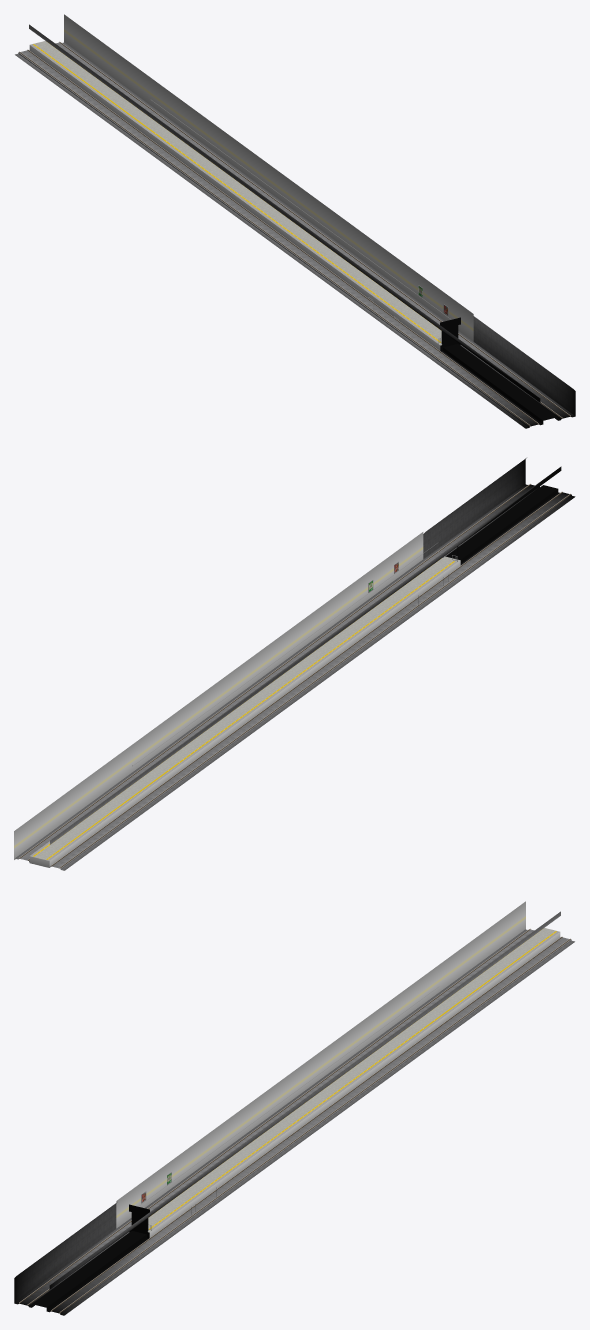
File: KH_SHIJO.glb
3 renders of one model, top to bottom at view 1: azimuth 30°, elevation 25°; view 2: azimuth 150°, elevation 25°; view 3: azimuth 330°, elevation 25°, orthographic.
Visible parts, largest first — view 1: R000; view 2: R000; view 3: R000.
Boxes of the visible parts, bbox=[...] form: R000: bbox=[15, 14, 575, 428]; R000: bbox=[14, 458, 575, 870]; R000: bbox=[14, 901, 574, 1315].
Size of the model in its own units: 28.51 by 16.6 by 500.
Materials: 9 (7 with a texture image).
